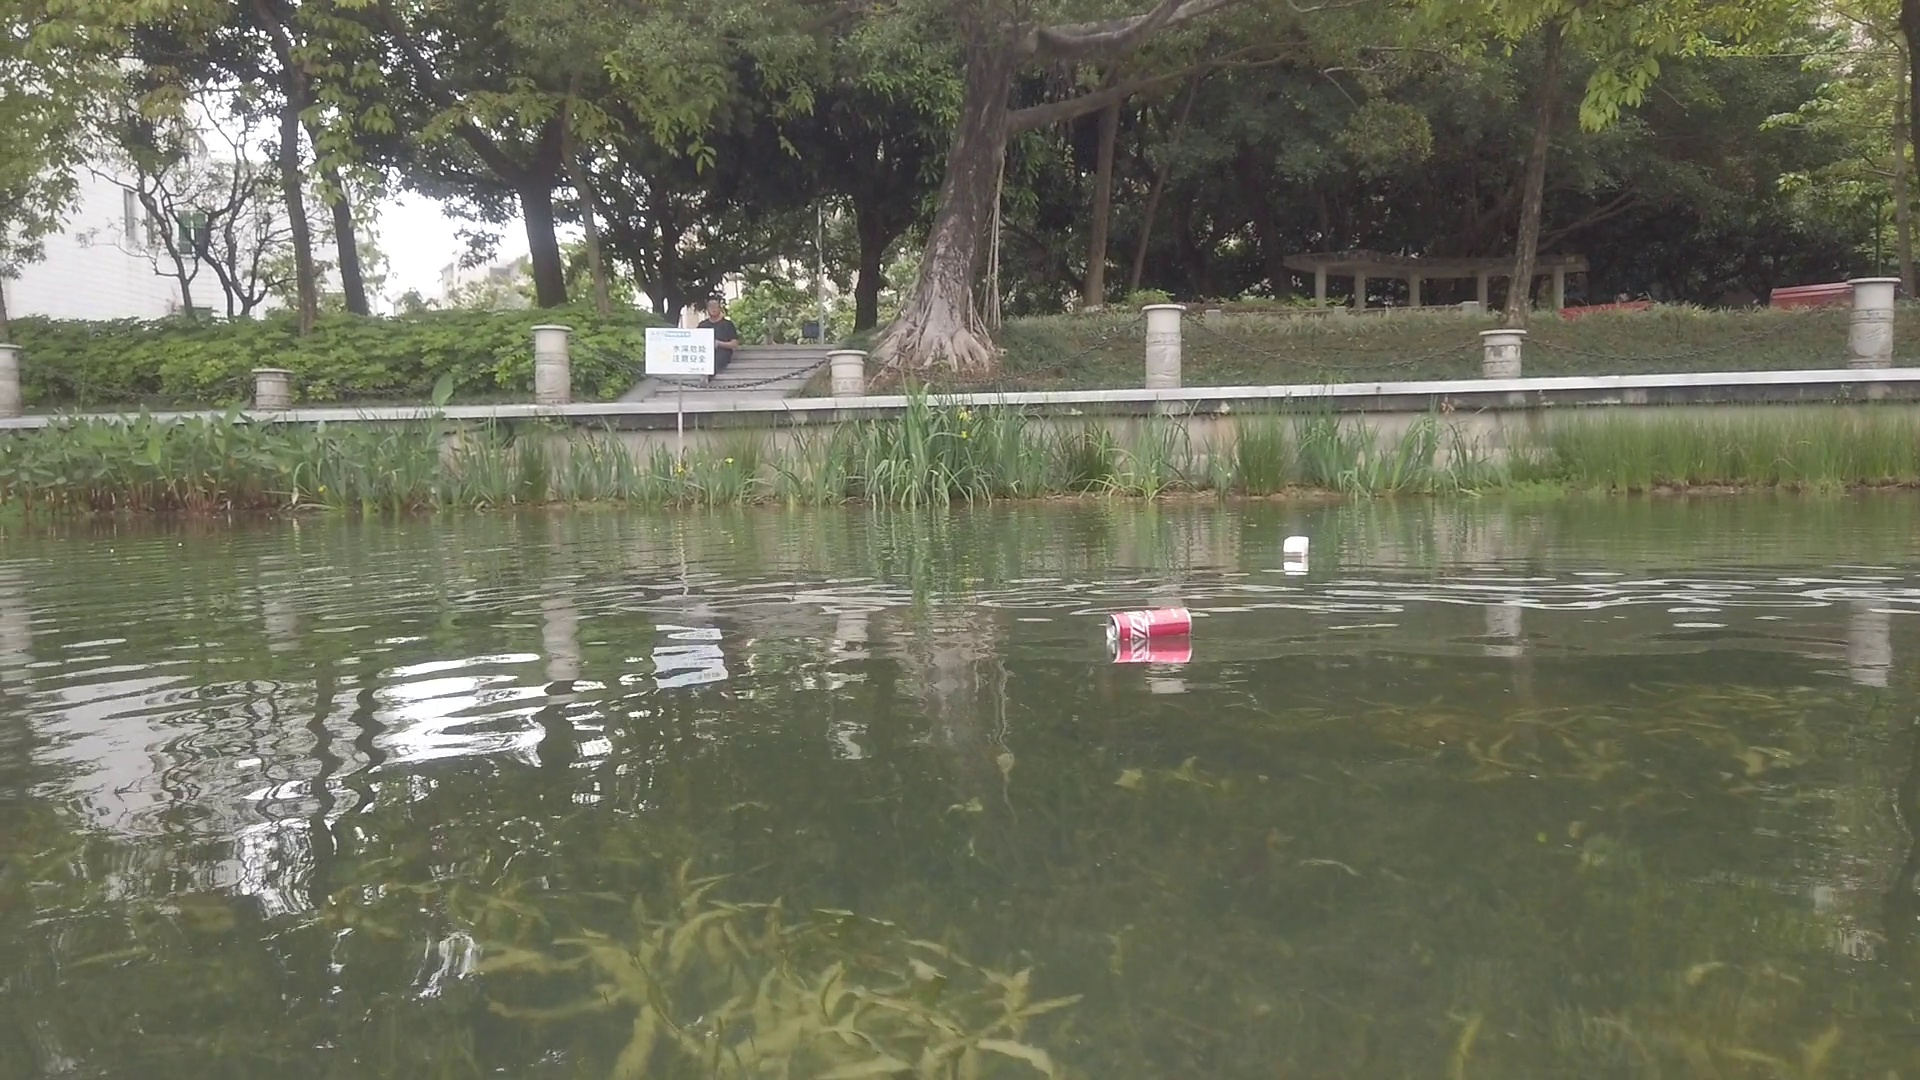bottle: (1106, 605, 1193, 637)
carton: (1283, 531, 1309, 556)
